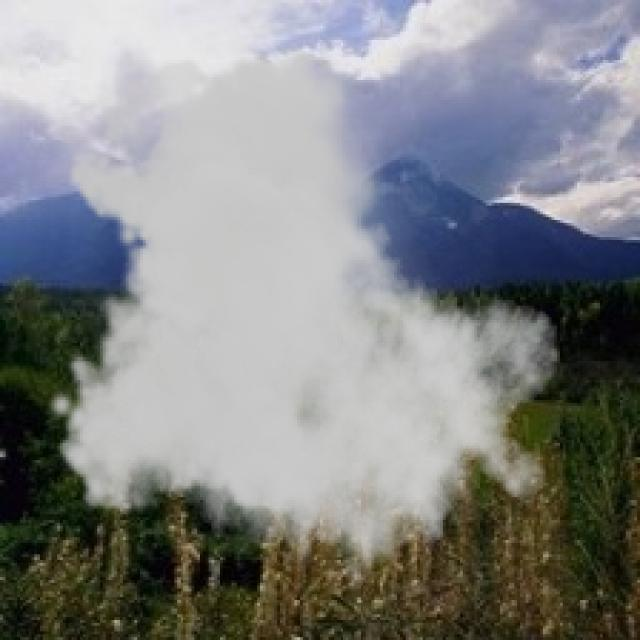Smoke: (46, 43, 563, 612)
